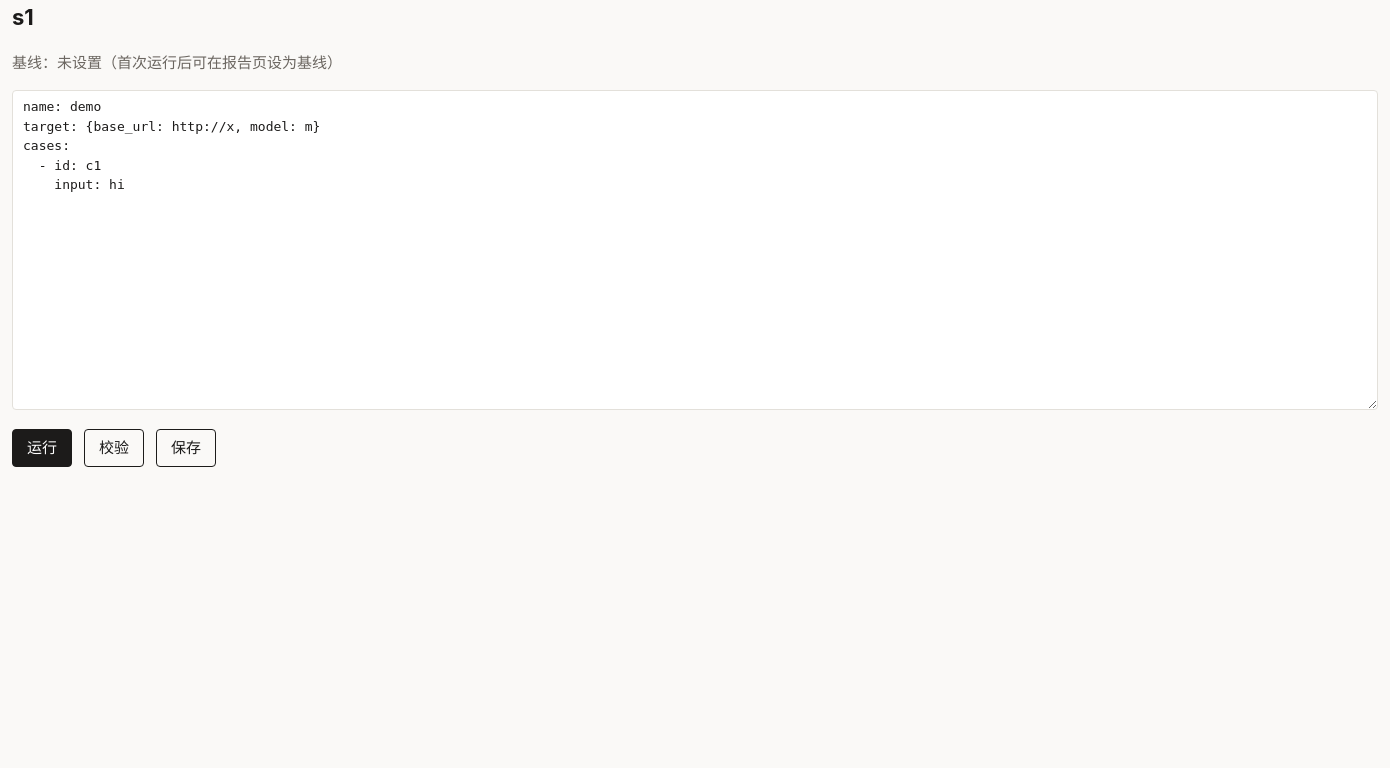
SuiteEditorPage › shows validation error from server
Expected: the text box is shown, [12,90,1378,410]
Click the button "校验": [114, 448] box [84,429,144,467]
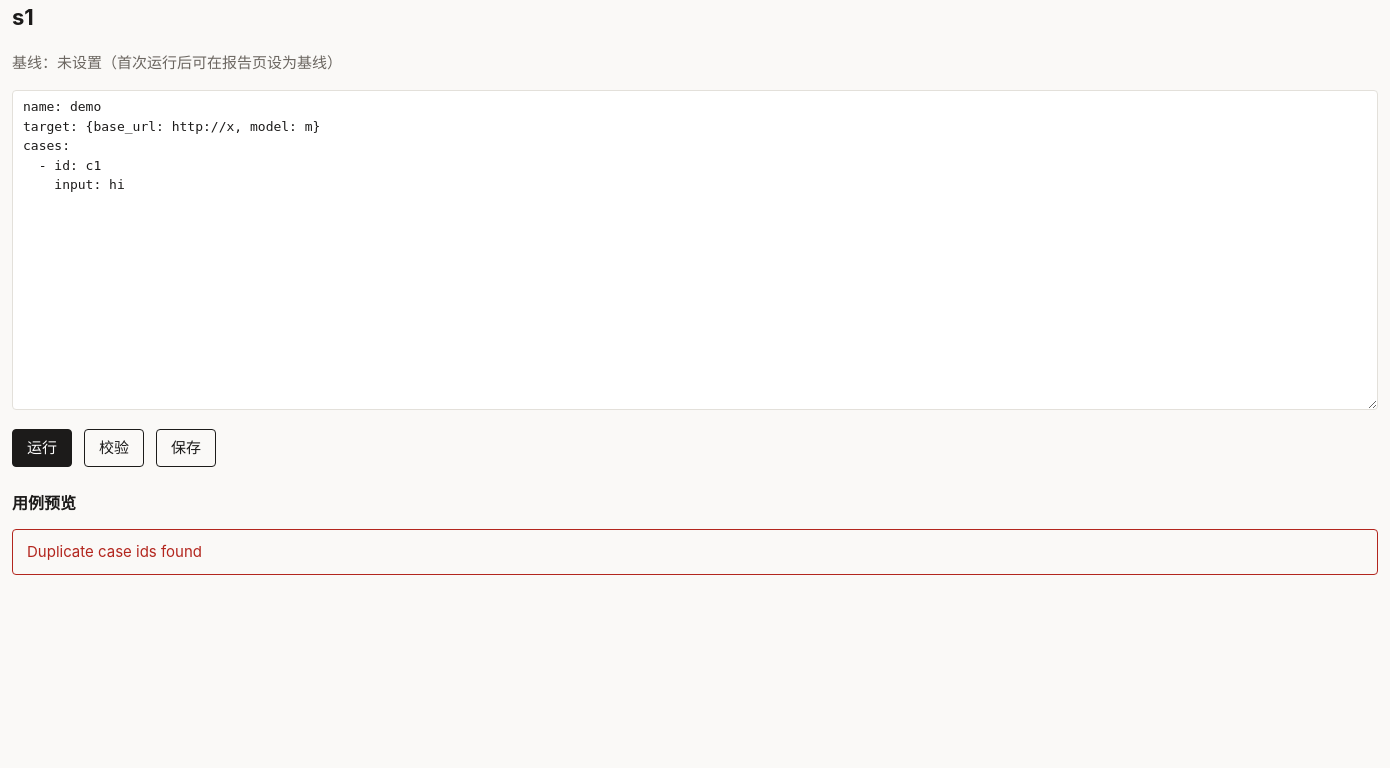
Expected: the text "Duplicate case ids found" is shown, [12,529,1378,575]
